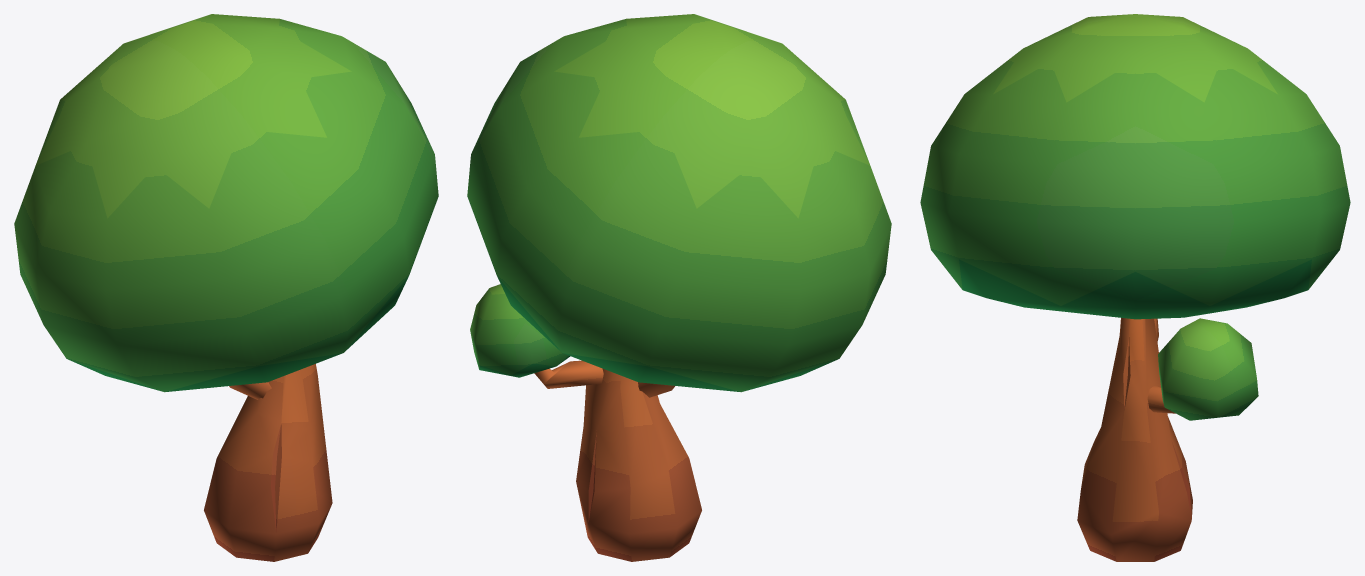
File: Tree_1_A_Color1.glb
3 views of the same model, side by side, from view 1: azimuth 30°, elevation 25°; view 2: azimuth 150°, elevation 25°; view 3: azimuth 270°, elevation 25° (orthographic). The views are drawn at different scales.
Parts seen in each view (by area): view 1: Tree_1_A_Color1; view 2: Tree_1_A_Color1; view 3: Tree_1_A_Color1.
Boxes of the visible parts, left/top/right/bottom form: Tree_1_A_Color1: left=14, top=14, right=438, bottom=561; Tree_1_A_Color1: left=467, top=14, right=891, bottom=561; Tree_1_A_Color1: left=920, top=14, right=1350, bottom=561.
Bounding box in the file's own units: 3.18 × 4.16 × 3.25.
1 material, 1 textured.
